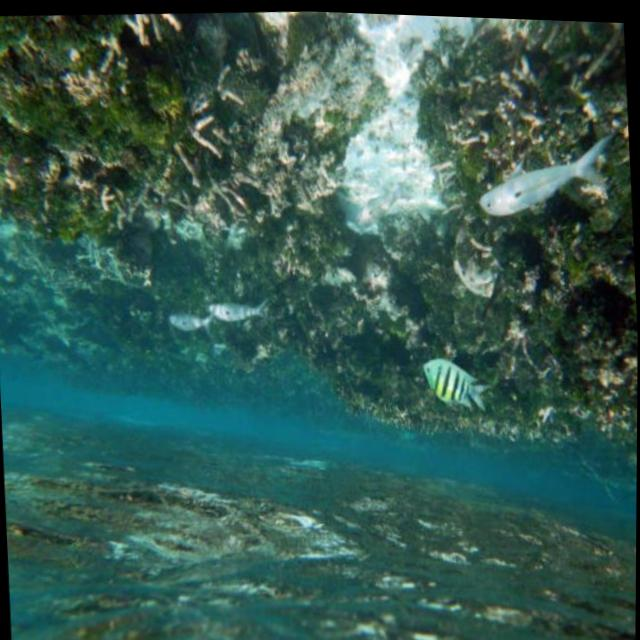Healthy Coral: (0, 16, 340, 429), (427, 35, 616, 445)
